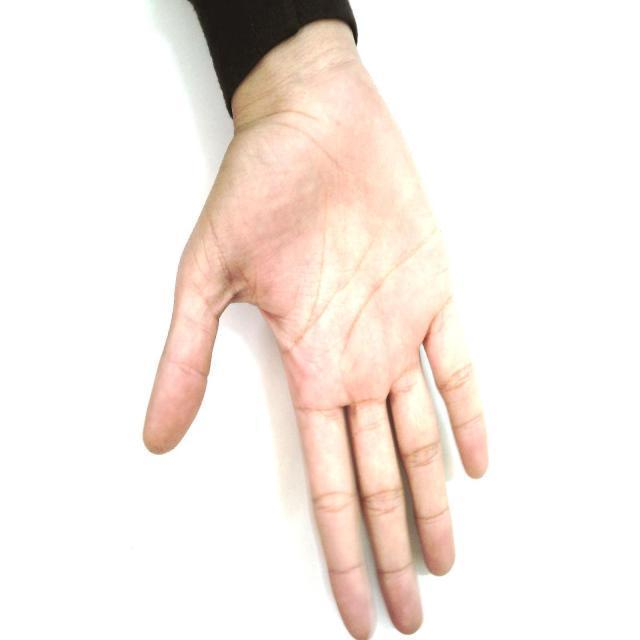hand: (142, 20, 490, 638)
